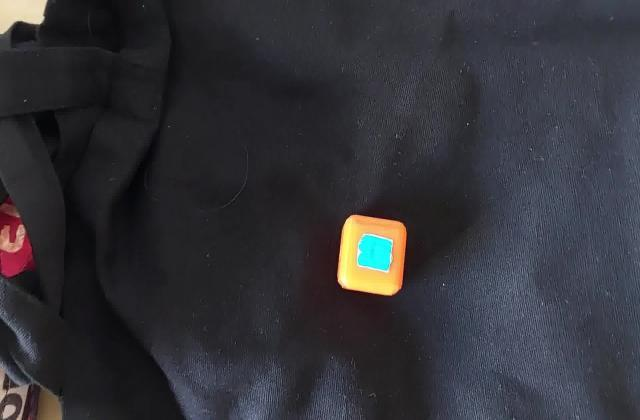blue: (366, 238, 390, 264)
sticker: (338, 212, 408, 297)
